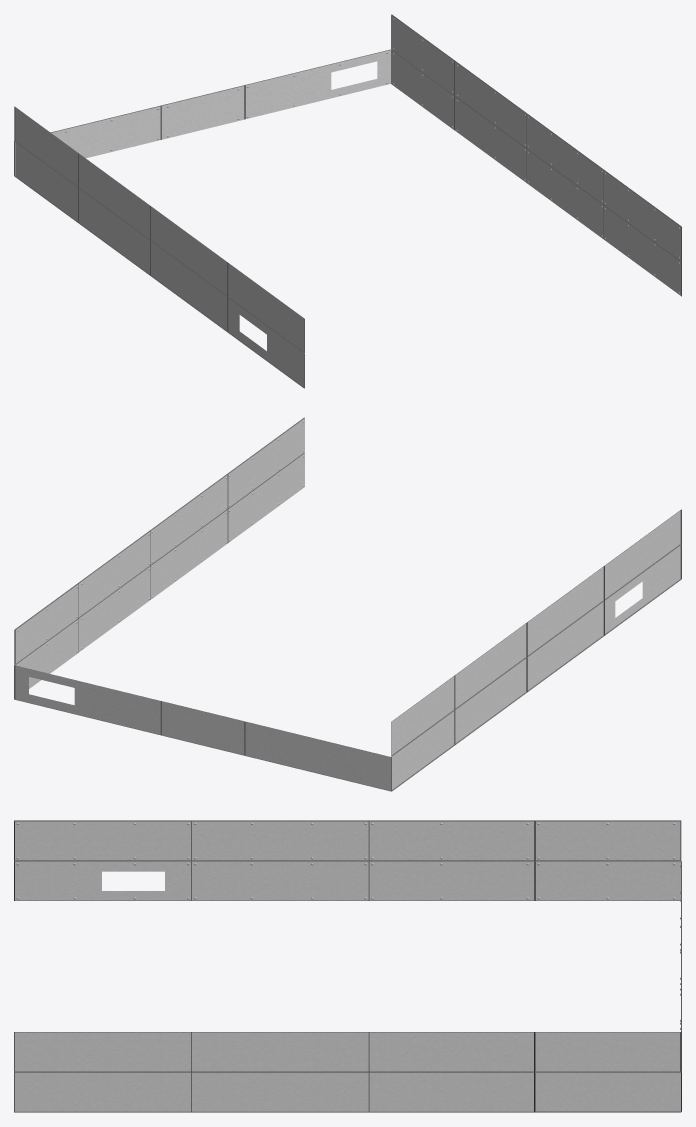
File: OR_Wall_Plate.fbx
3 views of the same model, one above another, from view 1: azimuth 30°, elevation 25°; view 2: azimuth 150°, elevation 25°; view 3: azimuth 270°, elevation 25° (orthographic). The views are drawn at different scales.
Visible parts, largest first — view 1: OR_Wall_Plate; view 2: OR_Wall_Plate; view 3: OR_Wall_Plate.
Part boxes in pixels (x1,y1,x2,y2): OR_Wall_Plate: [14, 14, 681, 388]; OR_Wall_Plate: [14, 417, 681, 791]; OR_Wall_Plate: [14, 820, 681, 1112].
Bounding box in the file's own units: 600 × 106 × 800.
